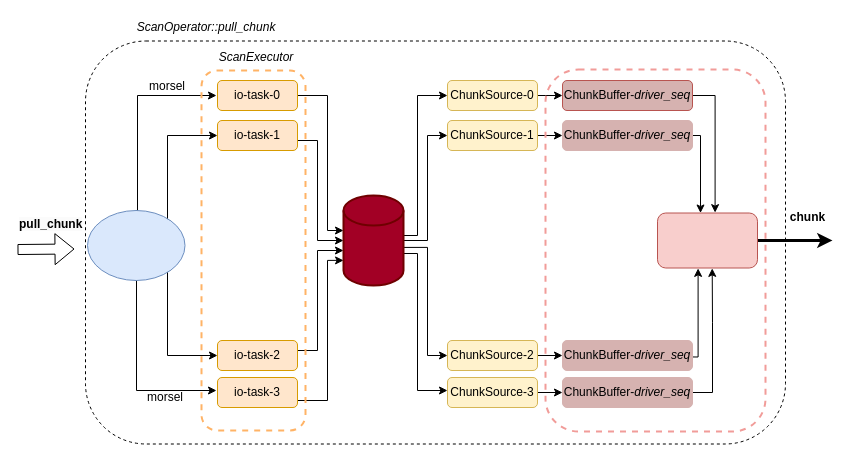
The diagram is 859 pixels wide and 461 high, and some of its shapes have lost their labels. Here are the shapes that lost their labels. From the top down, the centre of each, then its label:
the point at 135,245: MorselQueue
the point at 373,240: storage
the point at 707,240: ChunkBuffer
